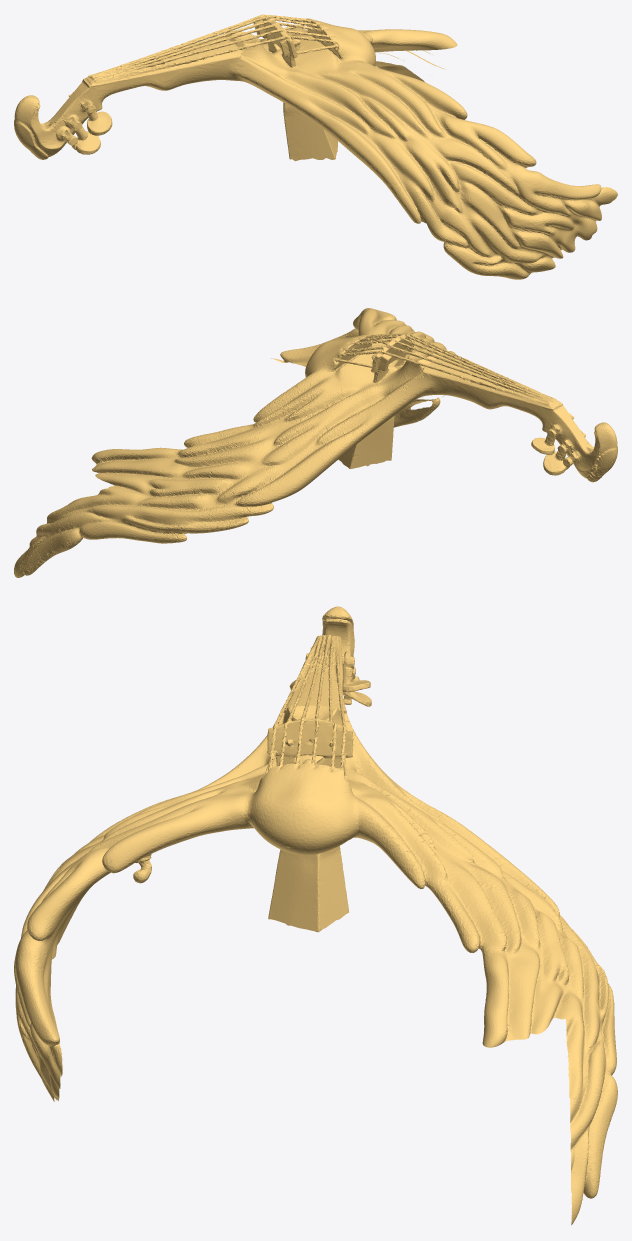
The model's file is phoenix.glb.
3 renders of one model, top to bottom at view 1: azimuth 30°, elevation 25°; view 2: azimuth 150°, elevation 25°; view 3: azimuth 270°, elevation 25°, orthographic. The views are drawn at different scales.
Visible parts, largest first — view 1: geometry_0; view 2: geometry_0; view 3: geometry_0.
Part boxes in pixels (x1,y1,x2,y2): geometry_0: [14, 14, 617, 279]; geometry_0: [14, 308, 617, 577]; geometry_0: [14, 606, 617, 1225].
Bounding box in the file's own units: 1 × 0.4409 × 0.7485.
